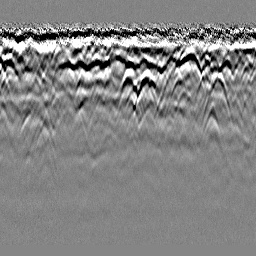cavity: (116, 65, 139, 100)
